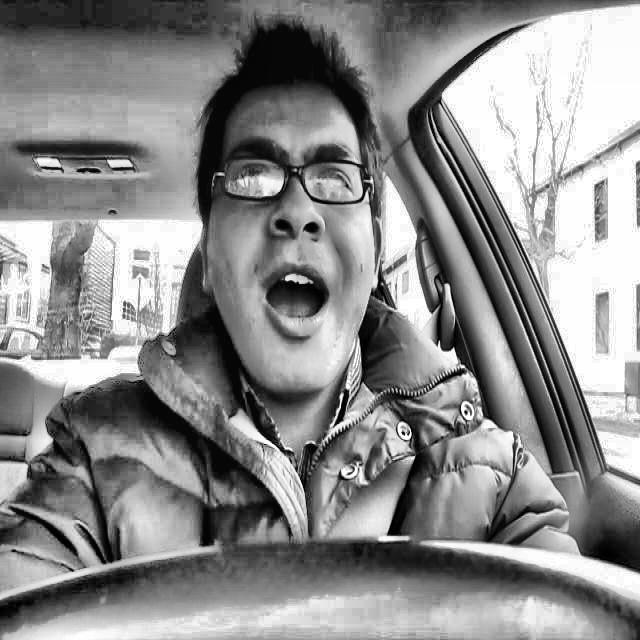open_mouth: (250, 259, 344, 347)
